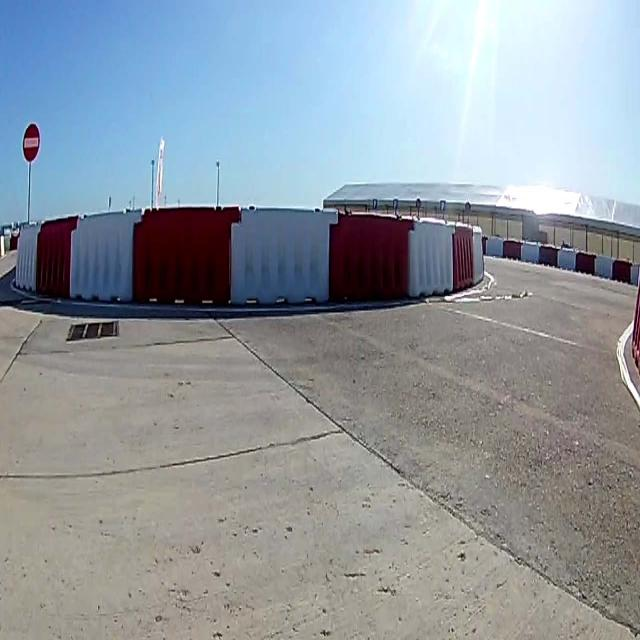girisyok: (22, 124, 40, 160)
